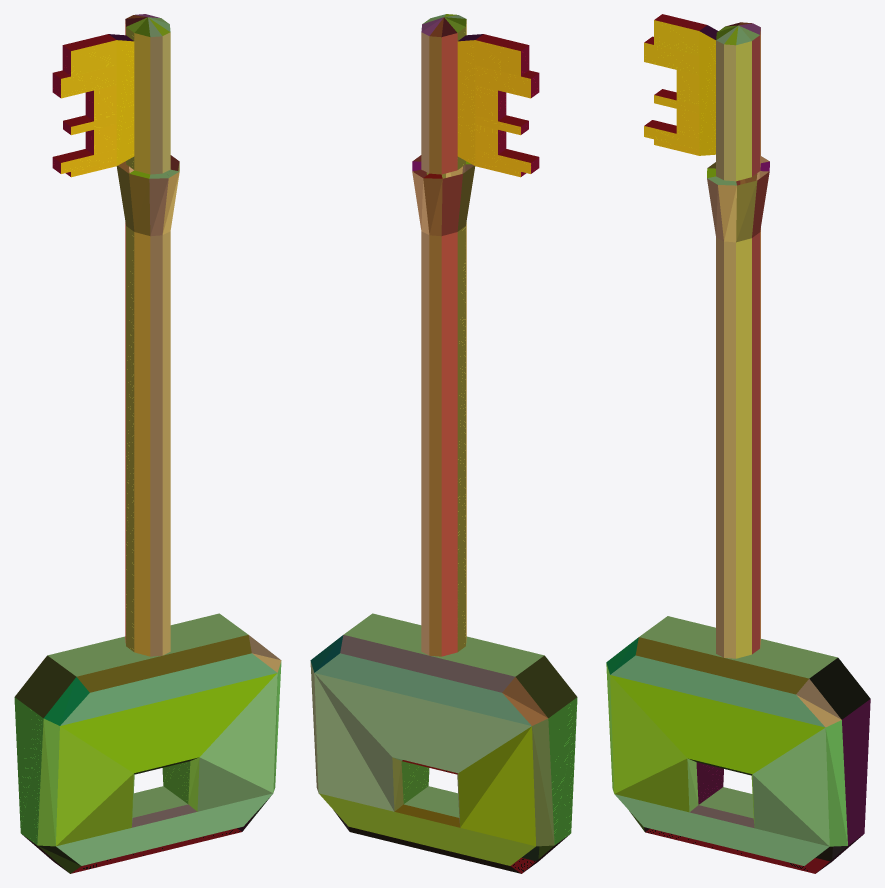
Rendered from primary_134.glb.
3 views of the same model, side by side, from view 1: azimuth 30°, elevation 25°; view 2: azimuth 150°, elevation 25°; view 3: azimuth 330°, elevation 25° (orthographic).
Parts seen in each view (by area): view 1: Object; view 2: Object; view 3: Object.
Part boxes in pixels (<box>): Object: <box>14,14,281,873</box>; Object: <box>310,14,577,873</box>; Object: <box>606,14,870,873</box>.
Bounding box in the file's own units: 0.1259 × 0.4195 × 0.0419.
Materials: 123 (123 with a texture image).
